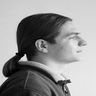ear: (31, 35, 53, 57)
